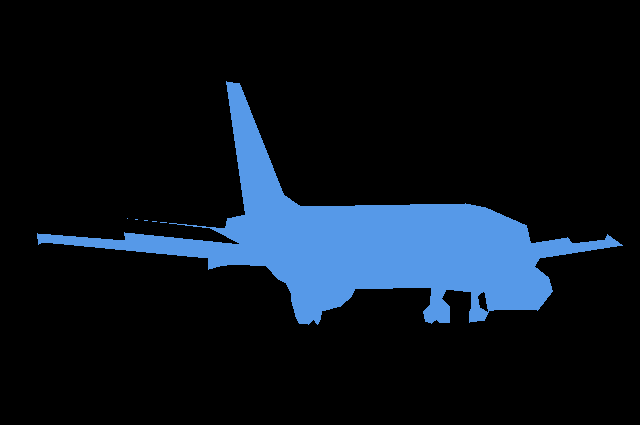Airplane: (37, 81, 623, 325)
